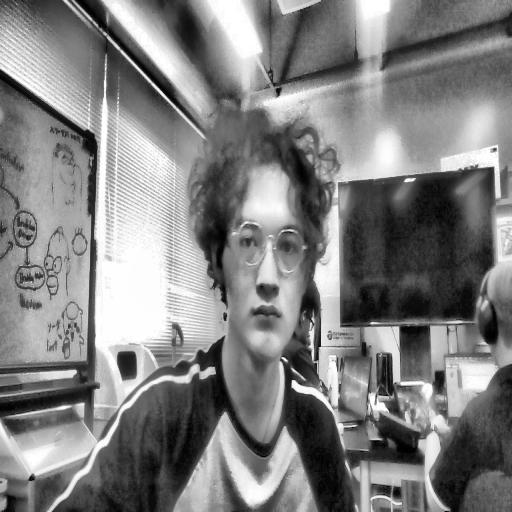Daifuku: (189, 116, 334, 348)
Not Daifuku: (473, 258, 512, 380), (295, 282, 323, 346)
